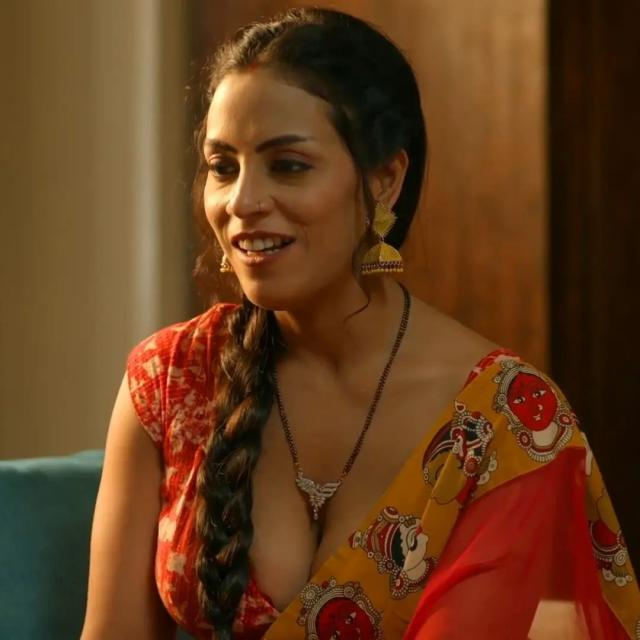adult: (77, 3, 640, 640)
